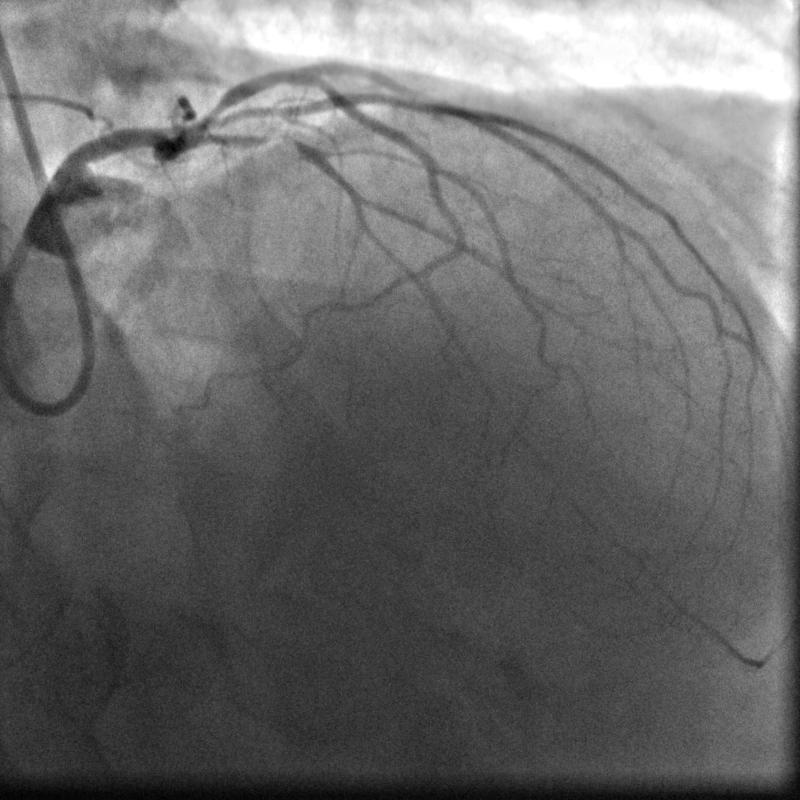Stenosis: (193, 94, 229, 130)
